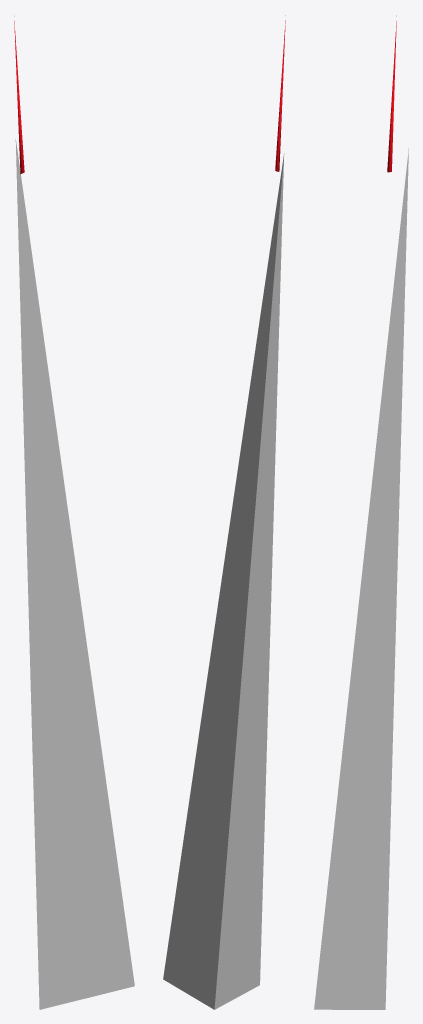
The model's file is garlicPlant_low.glb.
3 renders of one model, left to right at view 1: azimuth 30°, elevation 25°; view 2: azimuth 210°, elevation 25°; view 3: azimuth 270°, elevation 25°, orthographic. The views are drawn at different scales.
Parts seen in each view (by area): view 1: Icosphere; view 2: Icosphere; view 3: Icosphere.
Part boxes in pixels (left/top/right/bottom): Icosphere: left=14, top=16, right=134, bottom=1009; Icosphere: left=163, top=15, right=285, bottom=1009; Icosphere: left=314, top=15, right=408, bottom=1009.
Size of the model in its own units: 0.0951 by 1.1 by 0.0971.
